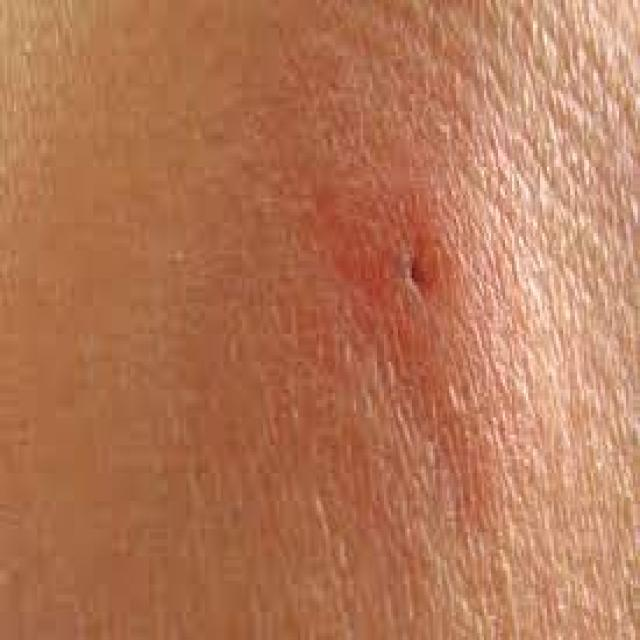kene: (303, 154, 527, 388)
